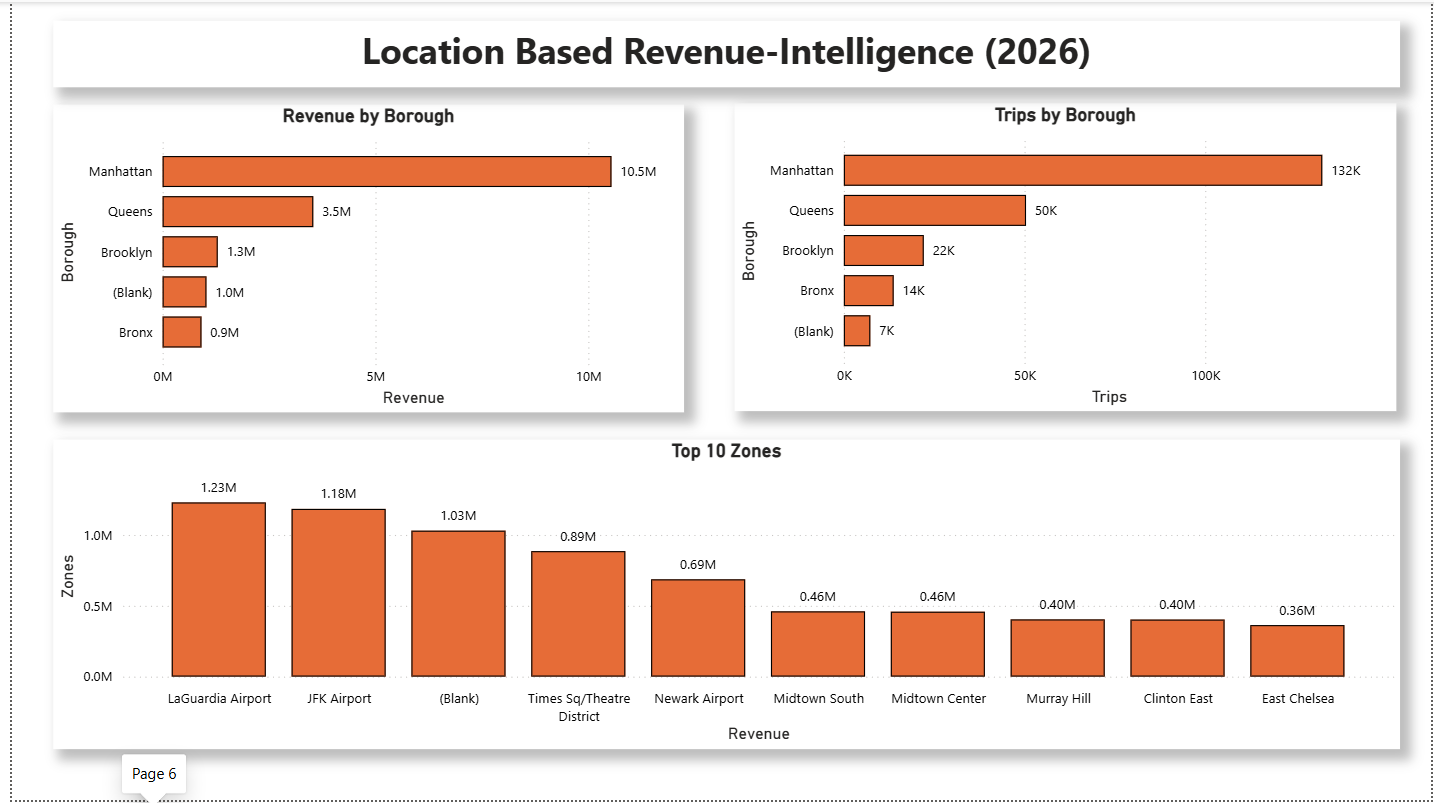

What the dashboard file says about the page in this screenshot:
{"tool":"powerbi","page":{"name":"Page 6","canvas":[1280,720],"ordinal":1},"visuals":[{"type":"barChart","title":"Revenue by Borough","fields":{"Category":["taxi_zone_lookup.Borough"],"Y":["Measure.Total Revenue"]},"box":[36.7,92.9,568.6,277.6],"z":0},{"type":"barChart","title":"Trips by Borough","fields":{"Category":["taxi_zone_lookup.Borough"],"Y":["CountNonNull(Cleaned_yellow_tripdata_2025-01.pickup hour)"]},"box":[651.8,91.7,596.7,277.6],"z":1000},{"type":"clusteredColumnChart","title":"Top 10 Zones","fields":{"Category":["taxi_zone_lookup.Zone"],"Y":["Sum(Cleaned_yellow_tripdata_2025-01.total_amount)"]},"box":[36.7,395,1214.3,278.8],"z":2000},{"type":"textbox","box":[36.7,17.1,1214.3,60],"z":2001}]}

Visuals, with their boxes in screenshot pixels (x1, y1, x2, y2), scaled from the page's 1280x720 canvas onto the 1434x803 screenshot:
"Revenue by Borough" barChart: bbox=[41, 104, 678, 413]
"Trips by Borough" barChart: bbox=[730, 102, 1399, 412]
"Top 10 Zones" clusteredColumnChart: bbox=[41, 441, 1402, 751]
textbox: bbox=[41, 19, 1402, 86]
